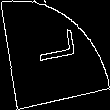L_W: (31, 35, 79, 75)
